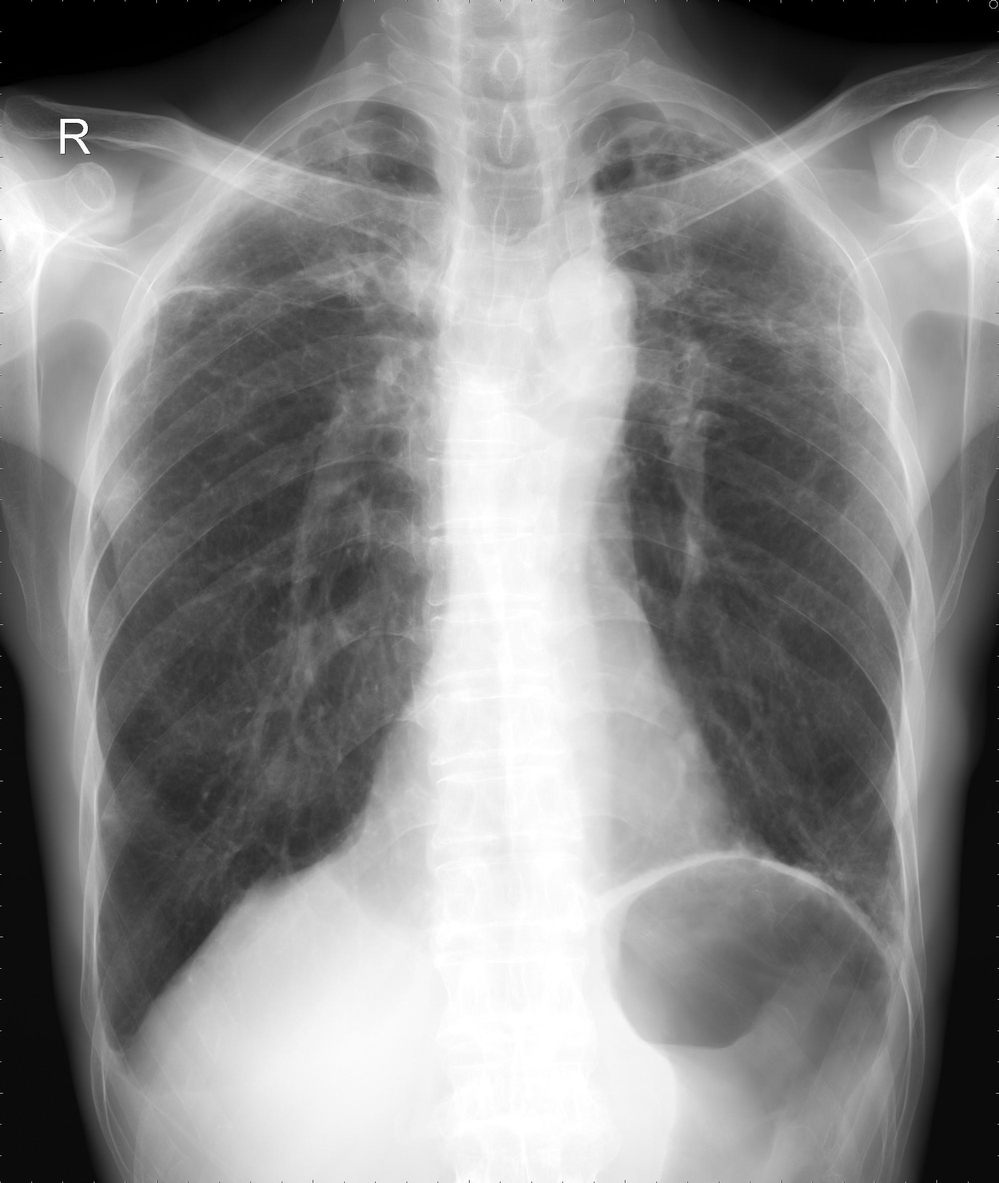Pleural thickening: (222, 100, 387, 197), (562, 82, 756, 161), (101, 1025, 133, 1092)
Pulmonary fibrosis: (649, 284, 890, 408), (149, 237, 412, 340)
